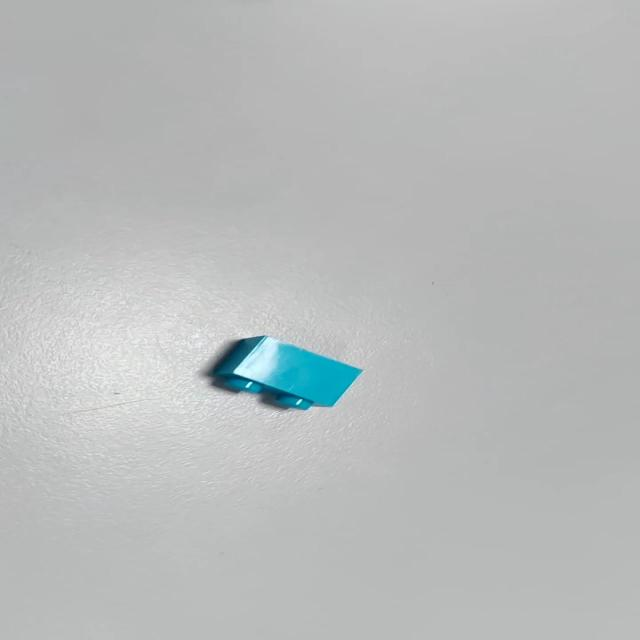C2x1x1: (210, 334, 364, 410)
